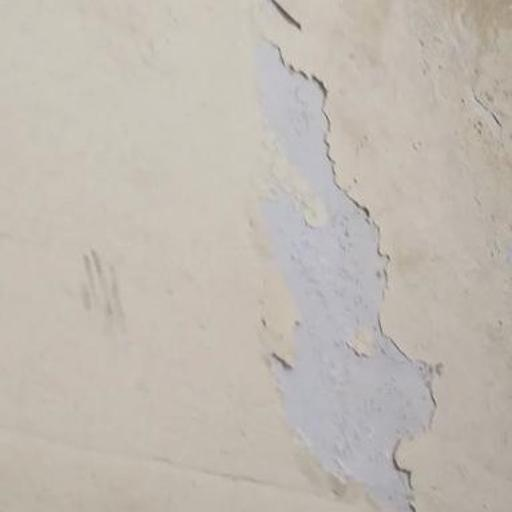peeling: (212, 1, 474, 512)
